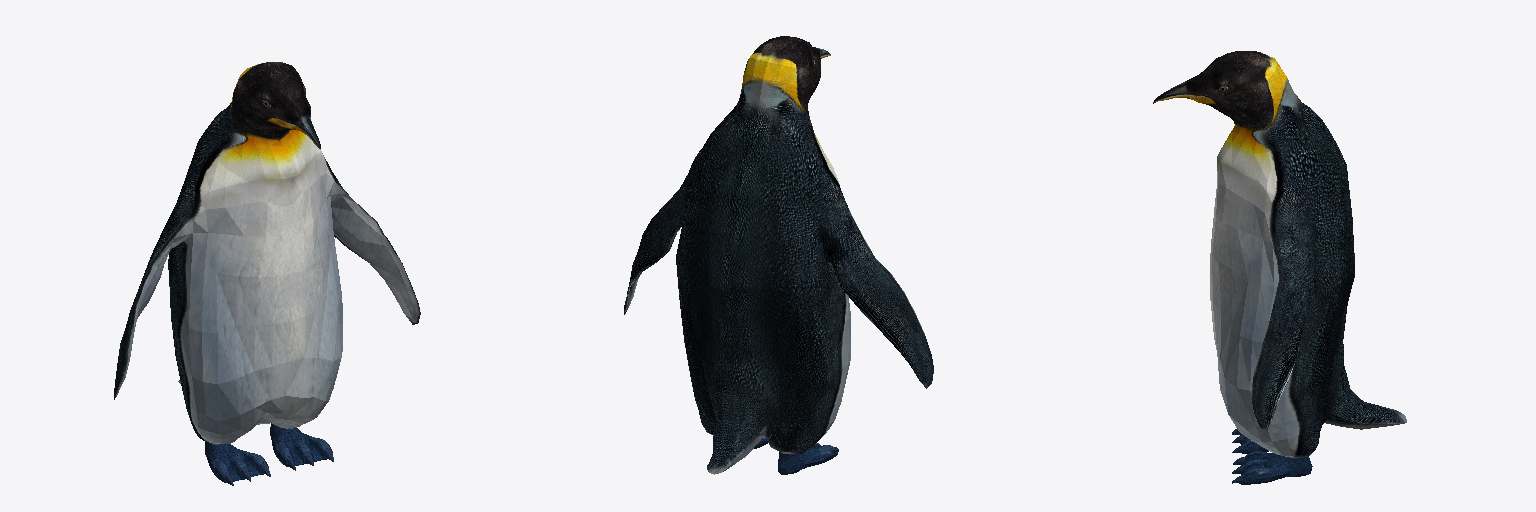
3 views of the same model, side by side, from view 1: azimuth 30°, elevation 25°; view 2: azimuth 150°, elevation 25°; view 3: azimuth 270°, elevation 25° (orthographic).
Parts seen in each view (by area): view 1: penguin; view 2: penguin; view 3: penguin.
Part boxes in pixels (bbox=[...]): penguin: bbox=[114, 62, 420, 485]; penguin: bbox=[624, 36, 933, 474]; penguin: bbox=[1153, 51, 1406, 484].
Size of the model in its own units: 18.41 by 23.29 by 13.23.
Materials: 3 (2 with a texture image).